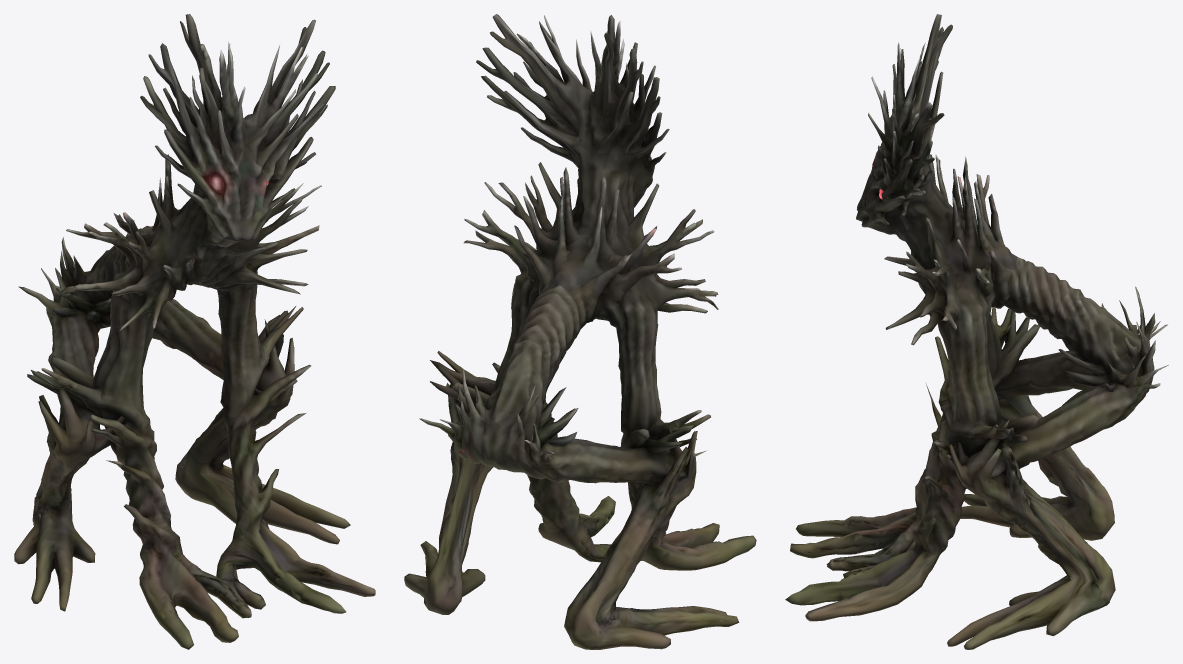
File: MZ4250 - Twig Blight_3_2025.glb
The picture shows the model from 3 angles, left to right: view 1: azimuth 30°, elevation 25°; view 2: azimuth 150°, elevation 25°; view 3: azimuth 270°, elevation 25°; orthographic projection. The views are drawn at different scales.
Parts seen in each view (by area): view 1: ORGANIC BASE SPHERE.001; view 2: ORGANIC BASE SPHERE.001; view 3: ORGANIC BASE SPHERE.001.
Part boxes in pixels (x1,y1,x2,y2): ORGANIC BASE SPHERE.001: (14,14,375,649); ORGANIC BASE SPHERE.001: (404,14,756,649); ORGANIC BASE SPHERE.001: (785,14,1168,649).
Size of the model in its own units: 32.01 by 55.21 by 34.29.
Materials: 1 (1 with a texture image).
